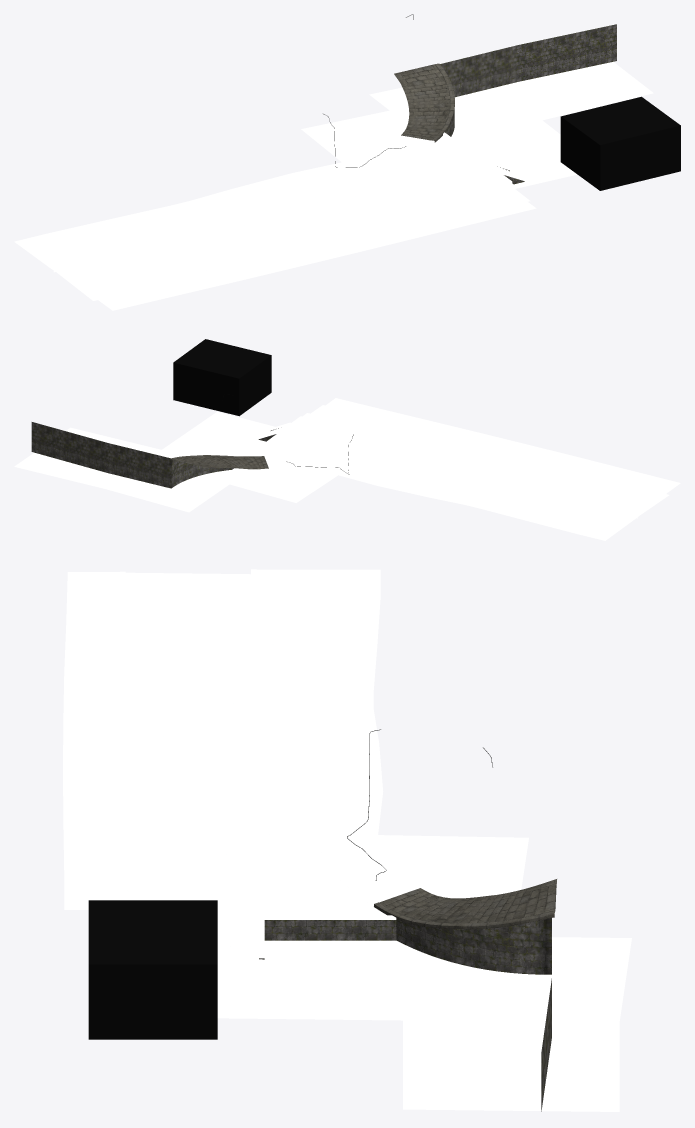
File: WATER_l02_02.fbx
3 renders of one model, top to bottom at view 1: azimuth 30°, elevation 25°; view 2: azimuth 150°, elevation 25°; view 3: azimuth 270°, elevation 25°, orthographic. The views are drawn at different scales.
Visible parts, largest first — view 1: LOD_1_Group_0_Sub_4__m02_pavement02_A_mat, LOD_1_Group_0_Sub_2__m02_pavement01, LOD_1_Group_0_Sub_3__sm0183_decolight00_A_mat, LOD_1_Group_0_Sub_5__m02_pavement03_Mat, LOD_1_Group_0_Sub_1__m02_pavement01_B_mat; view 2: LOD_1_Group_0_Sub_4__m02_pavement02_A_mat, LOD_1_Group_0_Sub_2__m02_pavement01, LOD_1_Group_0_Sub_3__sm0183_decolight00_A_mat, LOD_1_Group_0_Sub_5__m02_pavement03_Mat, LOD_1_Group_0_Sub_1__m02_pavement01_B_mat; view 3: LOD_1_Group_0_Sub_4__m02_pavement02_A_mat, LOD_1_Group_0_Sub_2__m02_pavement01, LOD_1_Group_0_Sub_3__sm0183_decolight00_A_mat, LOD_1_Group_0_Sub_5__m02_pavement03_Mat, LOD_1_Group_0_Sub_1__m02_pavement01_B_mat.
Boxes of the visible parts, x1=… form: LOD_1_Group_0_Sub_4__m02_pavement02_A_mat: x1=56, y1=62, x2=653, y2=300; LOD_1_Group_0_Sub_2__m02_pavement01: x1=14, y1=132, x2=536, y2=310; LOD_1_Group_0_Sub_3__sm0183_decolight00_A_mat: x1=323, y1=14, x2=680, y2=190; LOD_1_Group_0_Sub_5__m02_pavement03_Mat: x1=440, y1=24, x2=616, y2=184; LOD_1_Group_0_Sub_1__m02_pavement01_B_mat: x1=394, y1=63, x2=454, y2=142; LOD_1_Group_0_Sub_4__m02_pavement02_A_mat: x1=14, y1=405, x2=669, y2=523; LOD_1_Group_0_Sub_2__m02_pavement01: x1=246, y1=398, x2=680, y2=540; LOD_1_Group_0_Sub_3__sm0183_decolight00_A_mat: x1=173, y1=339, x2=353, y2=474; LOD_1_Group_0_Sub_5__m02_pavement03_Mat: x1=31, y1=422, x2=278, y2=488; LOD_1_Group_0_Sub_1__m02_pavement01_B_mat: x1=170, y1=455, x2=268, y2=469; LOD_1_Group_0_Sub_4__m02_pavement02_A_mat: x1=120, y1=572, x2=631, y2=1111; LOD_1_Group_0_Sub_2__m02_pavement01: x1=63, y1=569, x2=419, y2=958; LOD_1_Group_0_Sub_3__sm0183_decolight00_A_mat: x1=88, y1=729, x2=492, y2=1039; LOD_1_Group_0_Sub_5__m02_pavement03_Mat: x1=259, y1=918, x2=551, y2=1111; LOD_1_Group_0_Sub_1__m02_pavement01_B_mat: x1=374, y1=879, x2=556, y2=929.
Size of the model in its own units: 7441 by 1225 by 3436.
